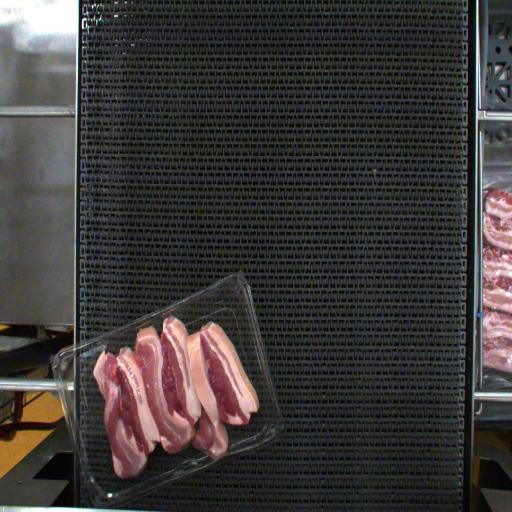twisted-meat: (190, 338, 228, 448)
